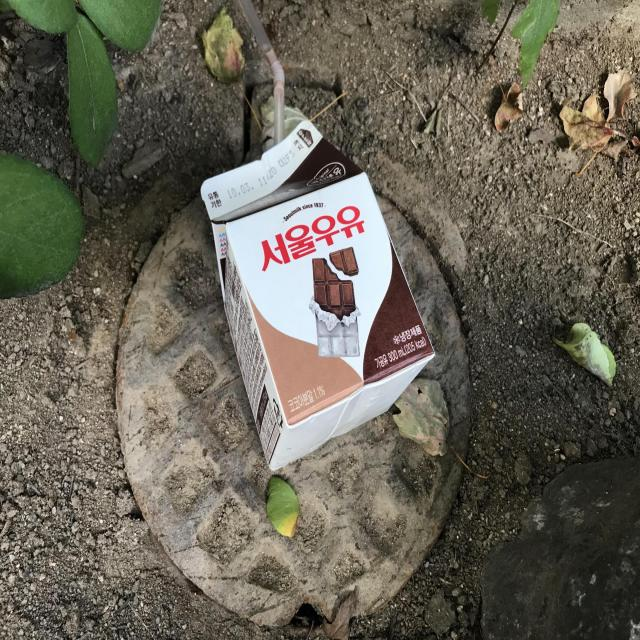paperpack: (201, 119, 434, 470)
